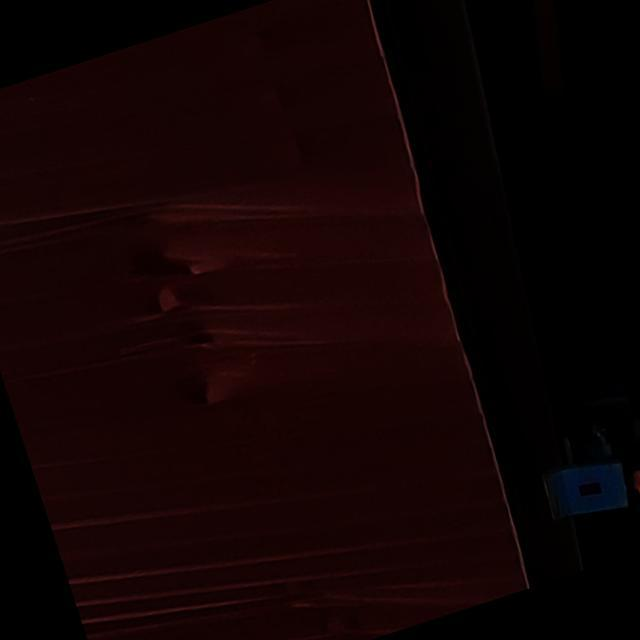dent: (1, 124, 361, 474)
